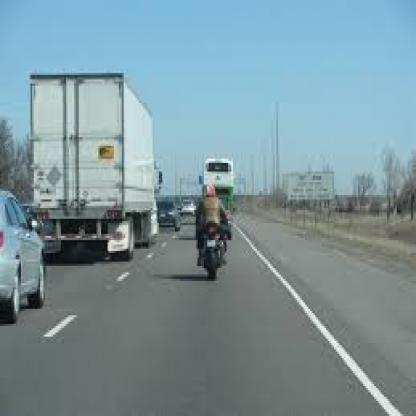car: (26, 67, 166, 258), (0, 182, 73, 346), (191, 143, 241, 222), (149, 179, 184, 235)
